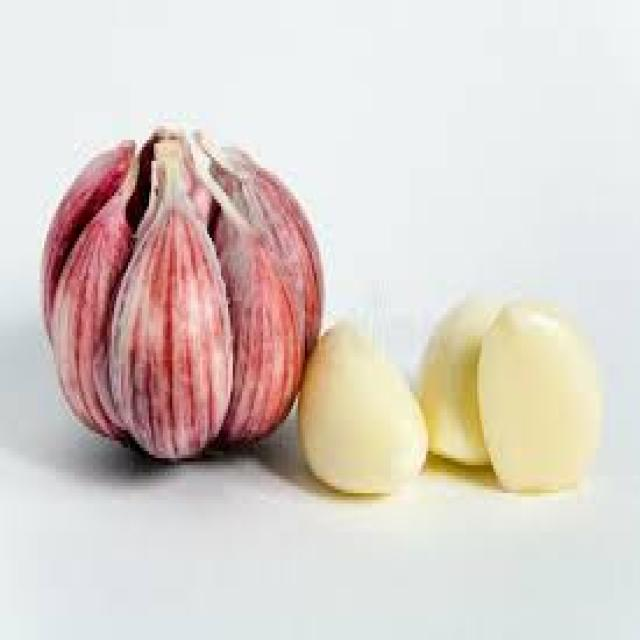Garlic: (42, 100, 335, 475), (474, 290, 609, 512), (288, 306, 431, 508), (417, 282, 509, 488)
